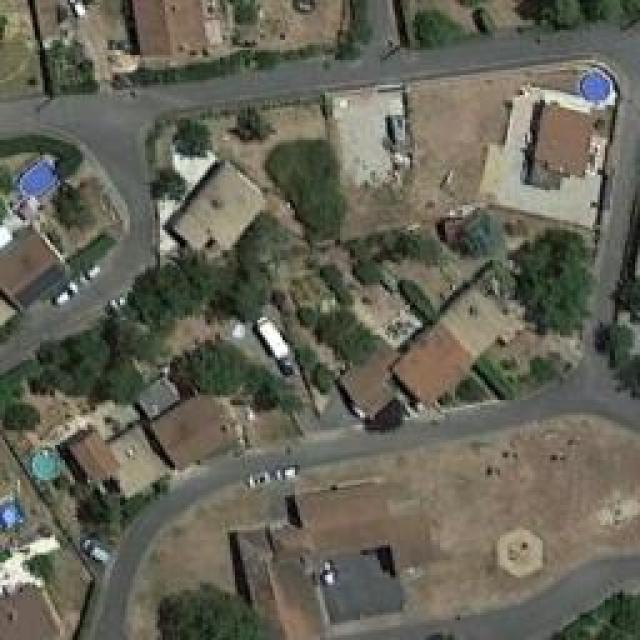City: (0, 2, 638, 640)
